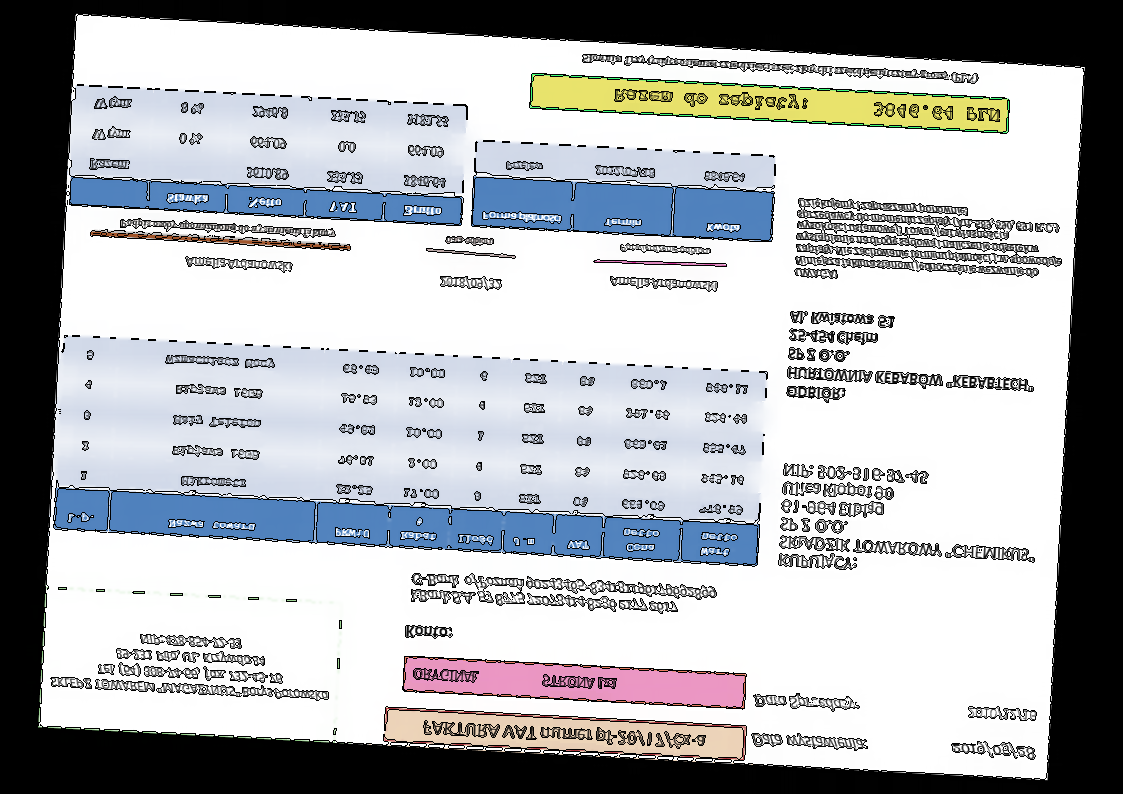Table: (51, 334, 769, 568), (67, 84, 467, 228), (470, 139, 777, 243)
TextBox: (775, 461, 1042, 583), (784, 308, 1040, 415), (792, 197, 1066, 293), (48, 627, 333, 705), (408, 568, 720, 620), (612, 84, 1002, 124), (580, 51, 979, 86), (421, 717, 708, 753), (412, 665, 619, 693), (117, 216, 336, 242), (750, 729, 870, 756), (751, 691, 862, 715), (184, 254, 293, 275), (949, 738, 1037, 763), (608, 275, 719, 293), (617, 241, 713, 259), (966, 705, 1038, 724), (438, 273, 502, 292), (403, 622, 453, 643), (443, 234, 494, 248)
